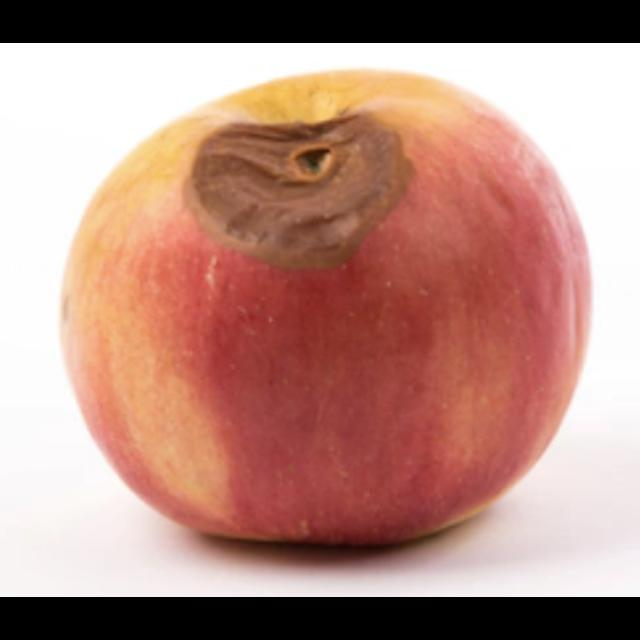Apel Tidak Segar: (61, 75, 579, 546)
